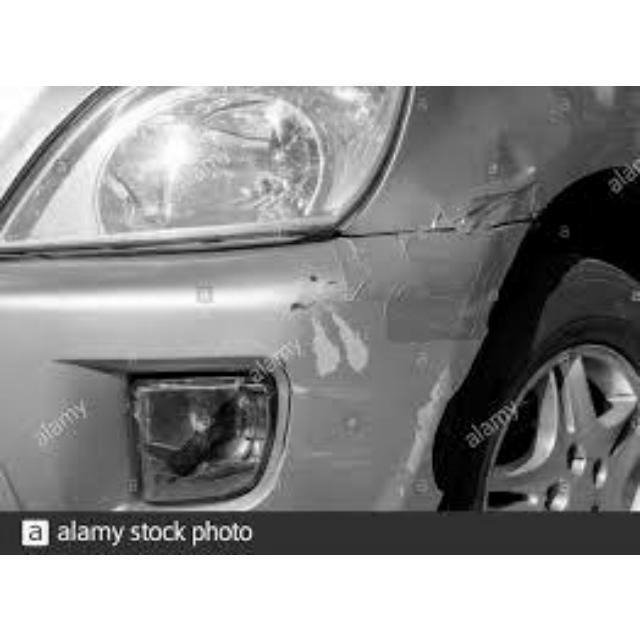fender-dent: (355, 86, 638, 359)
front-bumper-dent: (0, 237, 544, 517)
